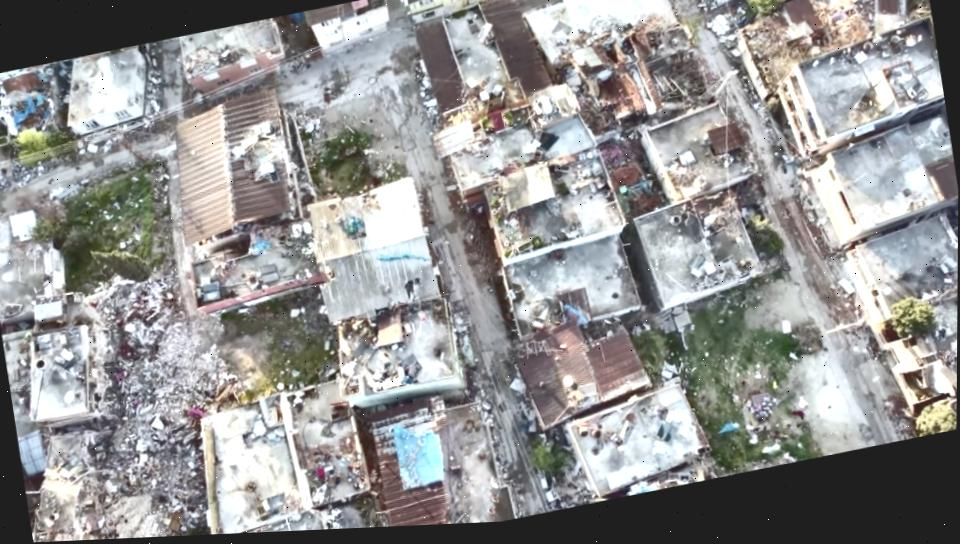kapali: (176, 266, 217, 536)
